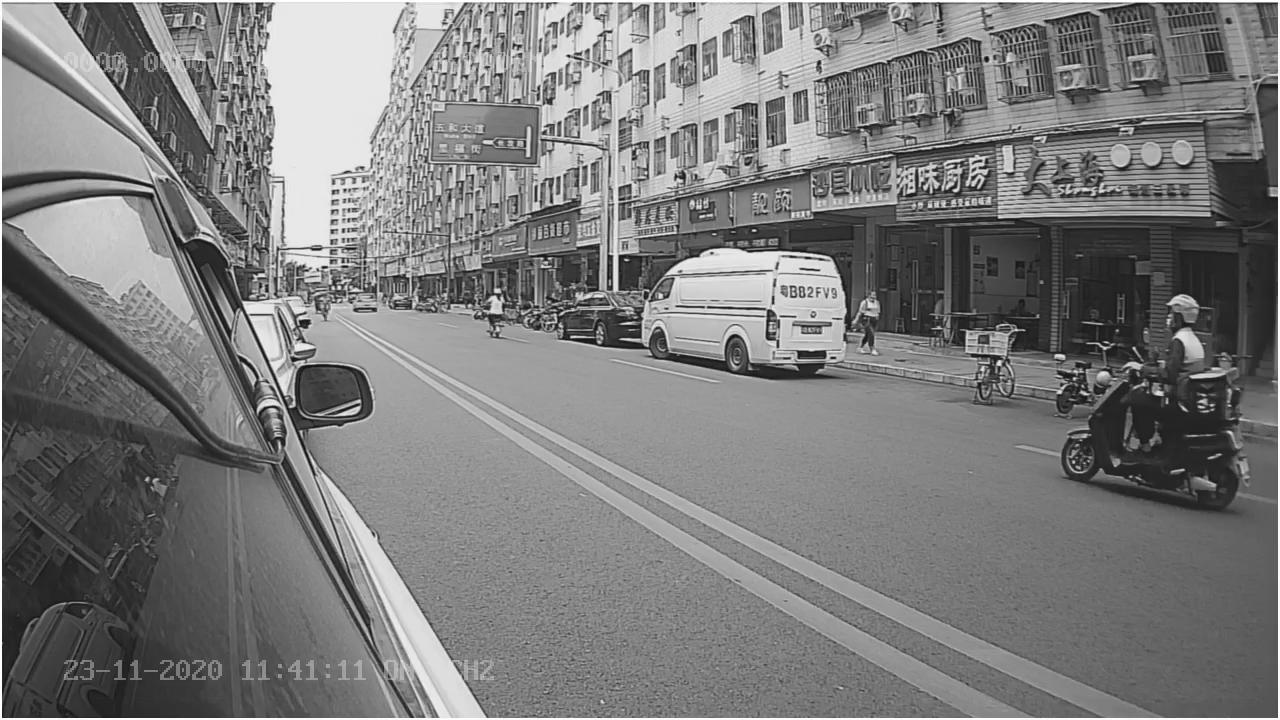person: (1164, 292, 1207, 371)
